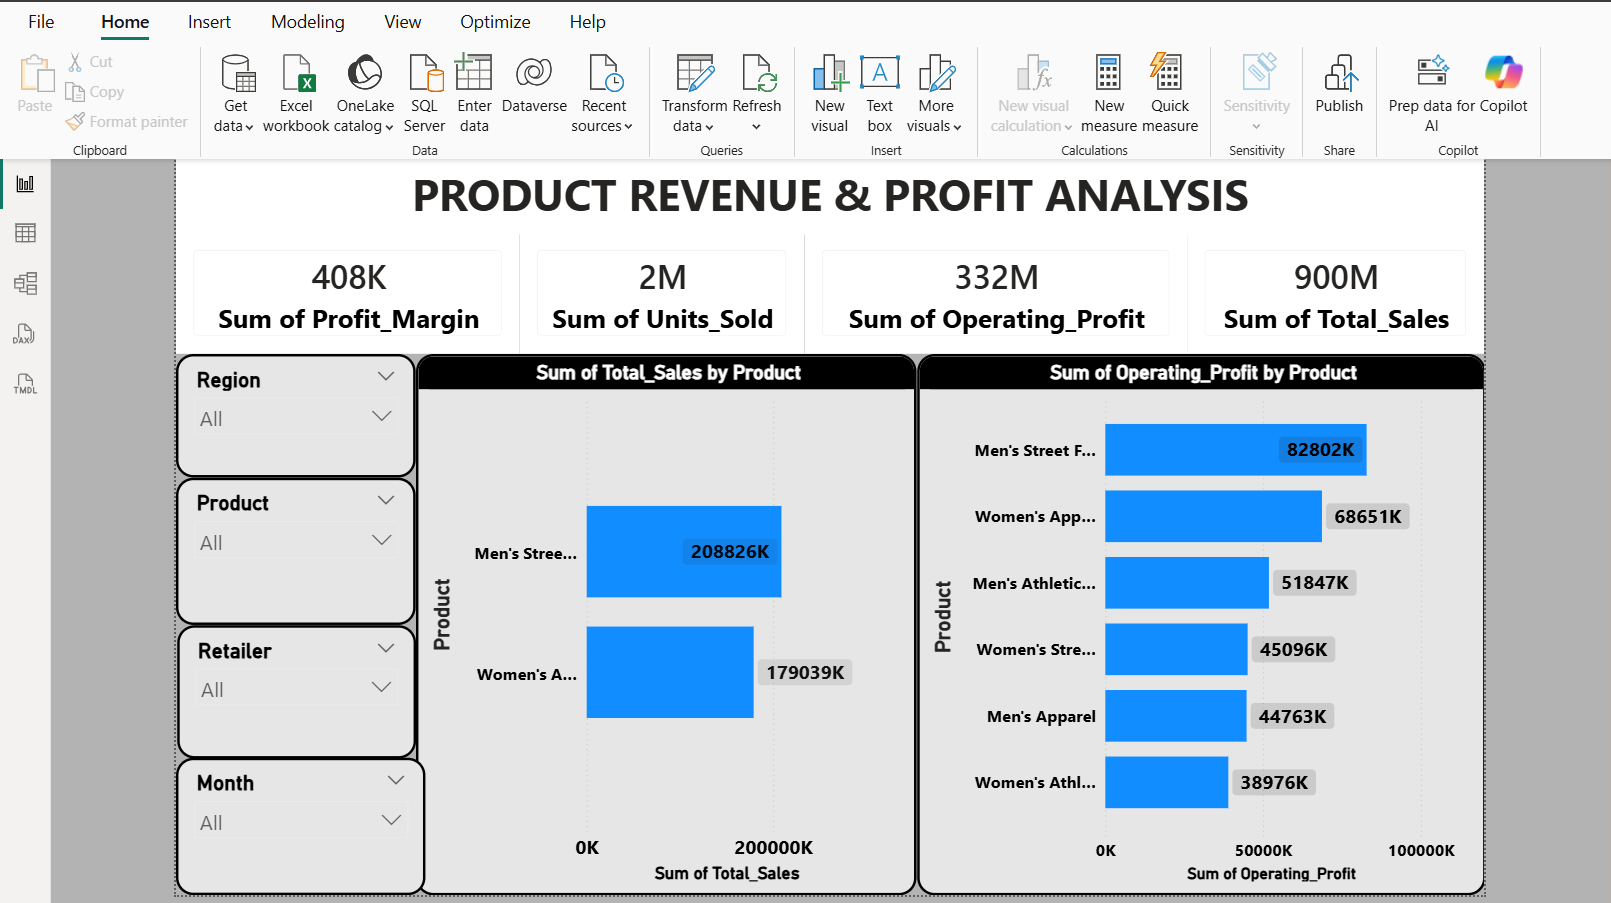

Layout of this report page (visuals, bound fields, positions):
{"tool":"powerbi","page":{"name":"Page 3","canvas":[1280,720],"ordinal":2},"visuals":[{"type":"textbox","box":[0,0,1280.3,73.4],"z":0},{"type":"barChart","fields":{"Category":["adidas_sales.Product"],"Y":["Sum(adidas_sales.Total_Sales)"]},"box":[234.6,190.7,489.9,529.7],"z":1000},{"type":"barChart","fields":{"Category":["adidas_sales.Product"],"Y":["Sum(adidas_sales.Operating_Profit)"]},"box":[724.5,190.7,555.7,529.7],"z":2000},{"type":"cardVisual","fields":{"Data":["Sum(adidas_sales.Profit_Margin)"]},"box":[0,72.7,336.2,118],"z":3000},{"type":"cardVisual","fields":{"Data":["Sum(adidas_sales.Units_Sold)"]},"box":[336.2,72.7,278.6,118],"z":4000},{"type":"cardVisual","fields":{"Data":["Sum(adidas_sales.Operating_Profit)"]},"box":[614.8,72.7,374.6,118],"z":5000},{"type":"cardVisual","fields":{"Data":["Sum(adidas_sales.Total_Sales)"]},"box":[989.4,72.7,290.9,118],"z":6000},{"type":"slicer","fields":{"Values":["adidas_sales.Region"]},"box":[0,190.7,234.6,120.8],"z":7000},{"type":"slicer","fields":{"Values":["adidas_sales.Product"]},"box":[0,311.5,234.6,144.1],"z":8000},{"type":"slicer","fields":{"Values":["DateTable.Month"]},"box":[0,585.9,244.3,134.5],"z":9000},{"type":"slicer","fields":{"Values":["adidas_sales.Retailer"]},"box":[1.4,455.6,233.3,130.4],"z":10000}]}

Visuals, with their boxes on the page's 1280x720 design canvas (x1, y1, x2, y2). These are canvas units, not pixel positions in the 1611x903 screenshot, which may show the page scaled, cropped or inside an application window:
textbox: Rect(0, 0, 1280, 73)
barChart - adidas_sales.Product x Sum(adidas_sales.Total_Sales): Rect(235, 191, 724, 720)
barChart - adidas_sales.Product x Sum(adidas_sales.Operating_Profit): Rect(724, 191, 1280, 720)
cardVisual - Sum(adidas_sales.Profit_Margin): Rect(0, 73, 336, 191)
cardVisual - Sum(adidas_sales.Units_Sold): Rect(336, 73, 615, 191)
cardVisual - Sum(adidas_sales.Operating_Profit): Rect(615, 73, 989, 191)
cardVisual - Sum(adidas_sales.Total_Sales): Rect(989, 73, 1280, 191)
slicer - adidas_sales.Region: Rect(0, 191, 235, 312)
slicer - adidas_sales.Product: Rect(0, 312, 235, 456)
slicer - DateTable.Month: Rect(0, 586, 244, 720)
slicer - adidas_sales.Retailer: Rect(1, 456, 235, 586)
